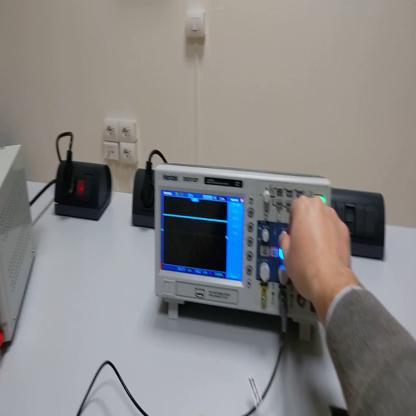hand: (279, 192, 354, 302)
oscilloscope: (152, 163, 328, 340)
power supply: (1, 145, 37, 345)
socket: (53, 162, 112, 221), (134, 167, 155, 228)
